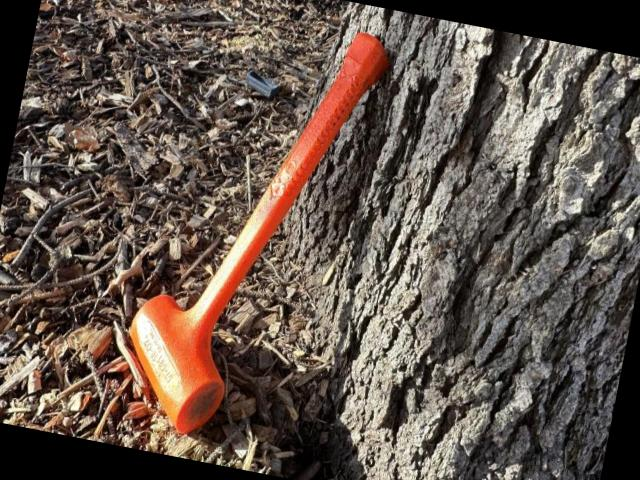hammer: (110, 0, 395, 456)
